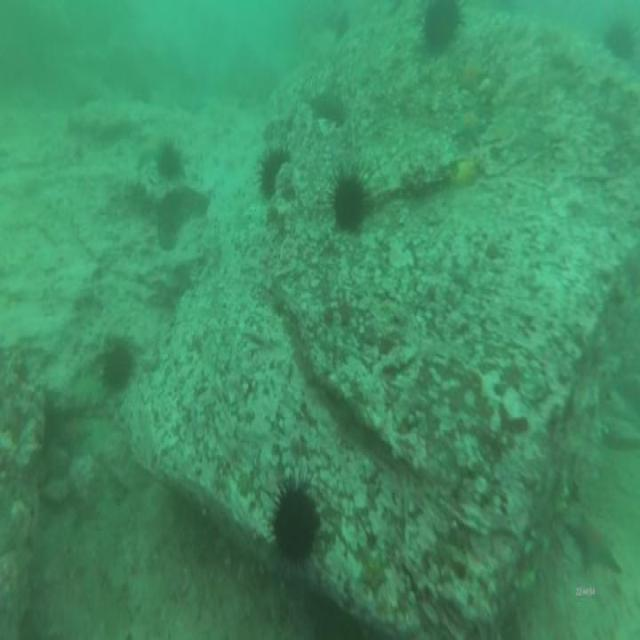echinus: (263, 476, 324, 574), (324, 166, 376, 235), (96, 337, 136, 403), (422, 0, 460, 57), (256, 142, 290, 202), (600, 17, 637, 68), (151, 134, 186, 184)
holothurian: (154, 183, 212, 254)
starfish: (565, 506, 623, 584), (353, 538, 389, 608), (453, 47, 491, 98), (449, 103, 492, 147)
